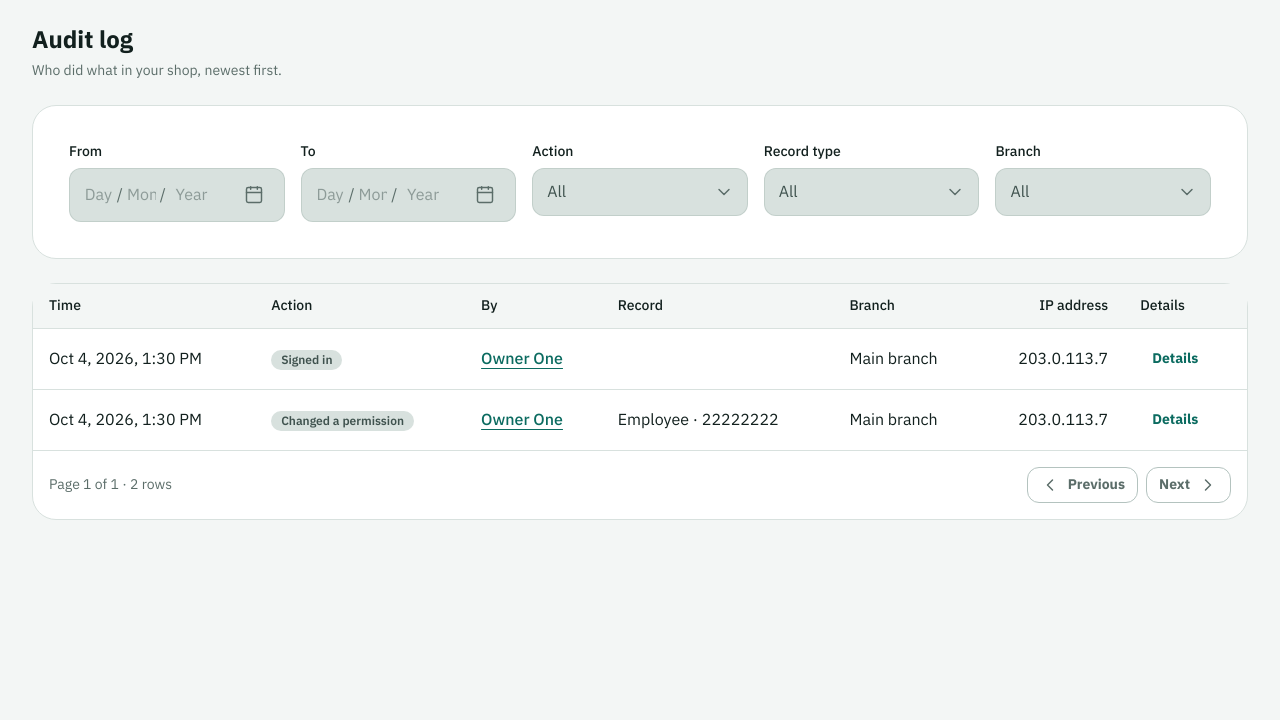
Test case: AuditPage › the details drawer shows the entry with readable before/after values
This screenshot has width=1280, height=720.
Expected: the text "Changed a permission" is shown, [271,411,414,431]
Click the button "Details" in the row of "Changed a permission".
click(1175, 420)  # box [1140,402,1210,438]
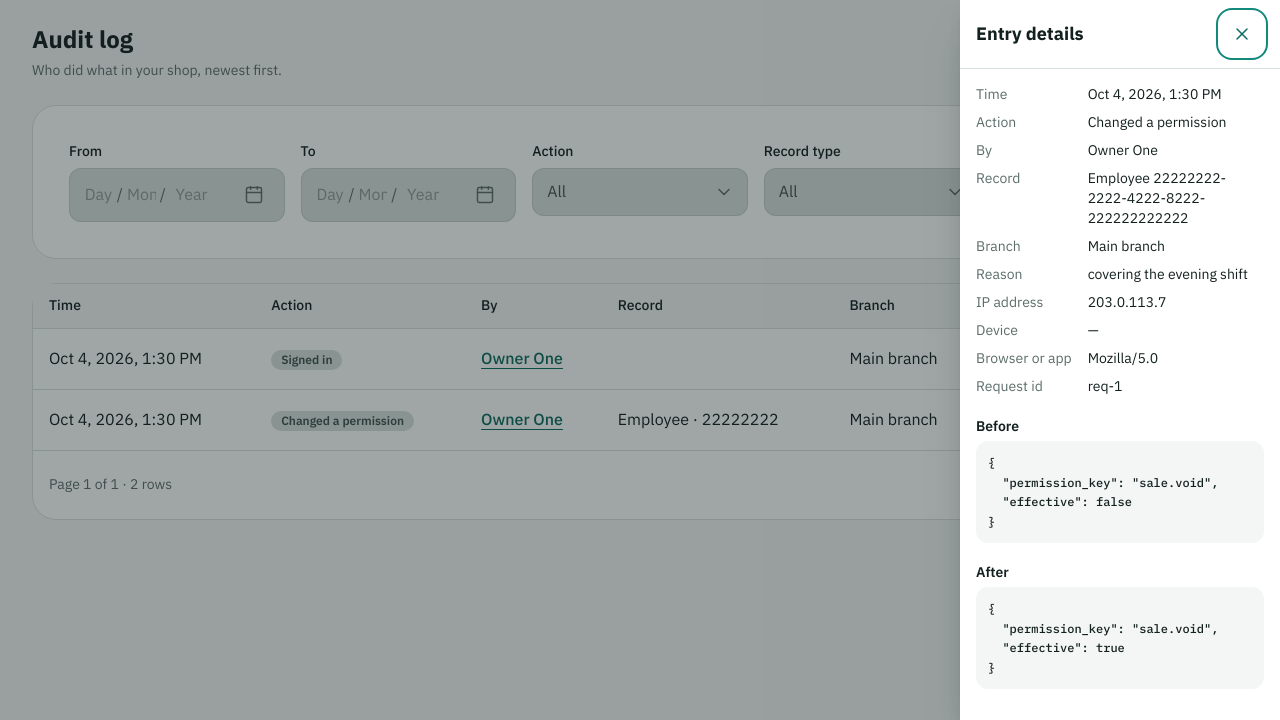
Expected: the text "covering the evening shift" is shown, [1088,265,1264,285]
Expected: the element "Before" shows "\"effective\": false", [988,455,1218,528]
Expected: the element "After" shows "\"effective\": true", [988,601,1218,674]
